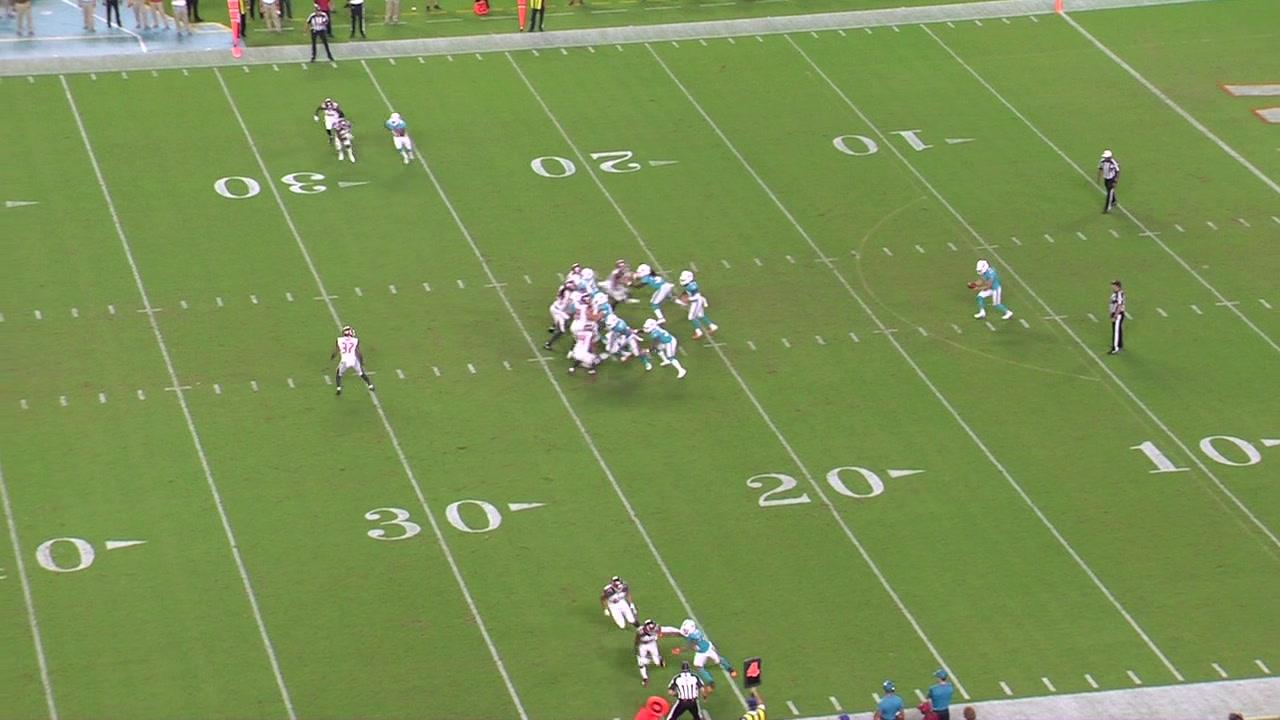five_hash: (869, 327, 901, 336), (526, 355, 556, 364), (164, 384, 193, 393), (812, 255, 839, 264), (483, 280, 509, 289), (312, 293, 339, 301), (702, 341, 729, 349), (1136, 231, 1163, 239), (1214, 299, 1241, 307), (1042, 313, 1068, 321), (135, 307, 163, 314), (975, 243, 1000, 250)
hash: (1189, 302, 1206, 318), (847, 329, 863, 345), (31, 308, 46, 324), (67, 305, 83, 320), (1257, 297, 1274, 311), (1085, 310, 1100, 325), (1017, 316, 1032, 331), (916, 324, 931, 339), (1075, 229, 1091, 243), (813, 333, 829, 347), (778, 335, 794, 349), (743, 338, 759, 352), (17, 395, 31, 411), (1235, 216, 1252, 229), (984, 319, 998, 334), (465, 361, 479, 376), (134, 387, 148, 402), (56, 393, 70, 408), (351, 285, 365, 299), (393, 367, 407, 381), (248, 379, 262, 393), (282, 291, 297, 304), (419, 281, 434, 294), (880, 245, 895, 258), (947, 239, 960, 254), (1155, 306, 1170, 319), (949, 322, 964, 335), (784, 253, 798, 266), (1043, 232, 1056, 246), (1206, 219, 1220, 232), (500, 359, 514, 372), (430, 365, 444, 378), (178, 299, 191, 312), (285, 376, 298, 389), (211, 382, 224, 395), (246, 293, 260, 305), (1107, 228, 1121, 240), (105, 304, 117, 317), (455, 278, 467, 291), (687, 261, 700, 273), (914, 243, 927, 255), (1174, 222, 1186, 235), (322, 373, 334, 386), (97, 391, 109, 404), (1009, 235, 1023, 246), (387, 284, 399, 296), (522, 273, 534, 285), (850, 248, 862, 260), (719, 259, 732, 270), (752, 256, 763, 269), (215, 296, 225, 310)
marker: (225, 0, 242, 52), (513, 0, 529, 31)
number: (744, 464, 886, 512), (360, 496, 504, 541), (1126, 433, 1264, 475), (211, 168, 333, 202), (528, 148, 645, 181), (829, 127, 937, 159)
